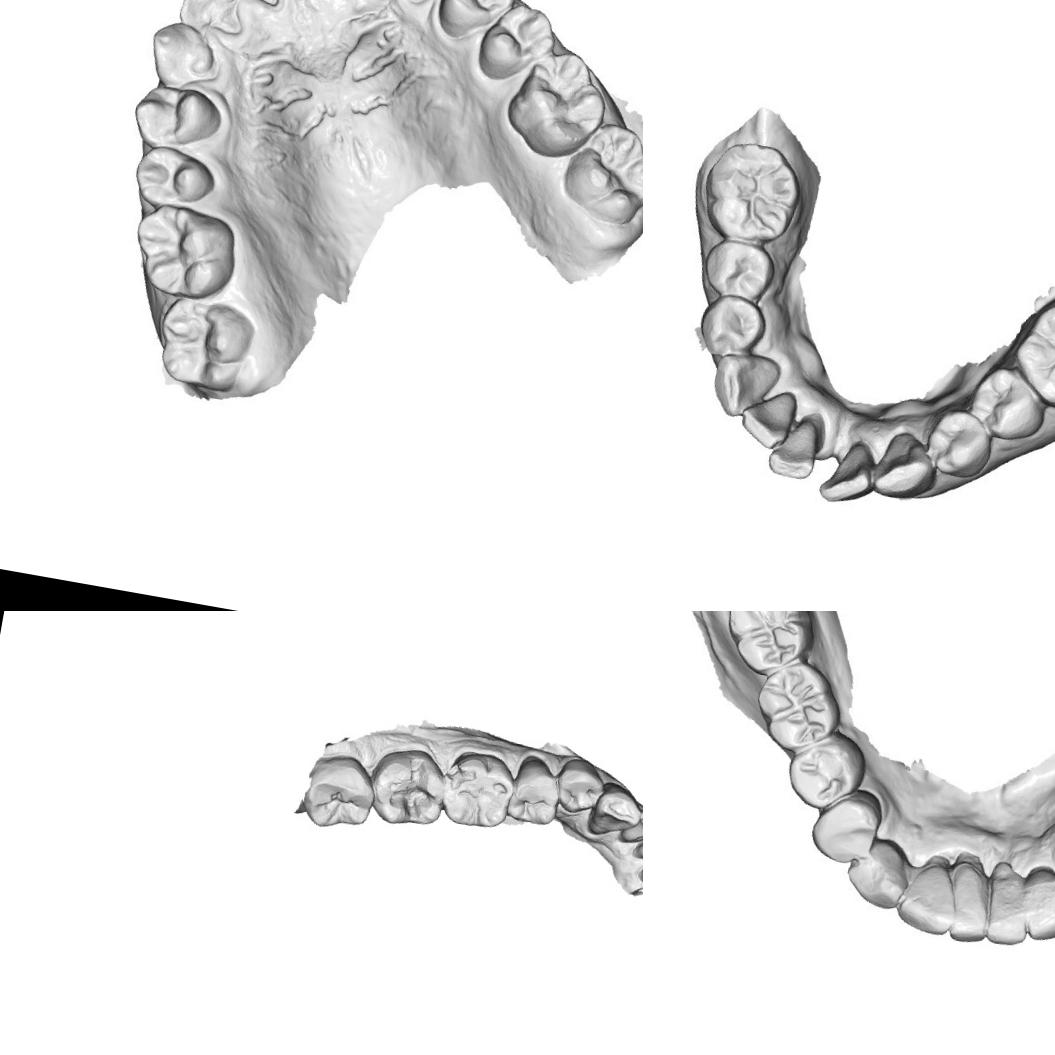canine: (705, 348, 782, 424), (144, 16, 219, 93), (844, 830, 912, 908), (875, 428, 934, 496), (585, 777, 643, 842)
incisor: (936, 849, 1004, 948), (977, 858, 1043, 948), (894, 852, 962, 937), (768, 412, 832, 490), (822, 438, 883, 508), (1016, 863, 1055, 947), (742, 386, 793, 447), (175, 0, 248, 37), (618, 799, 643, 849)
molar: (499, 42, 614, 166), (125, 198, 243, 306), (150, 291, 260, 396), (702, 137, 804, 242), (556, 115, 643, 230), (751, 659, 846, 756), (362, 740, 452, 832), (295, 746, 380, 837), (436, 746, 518, 833), (722, 611, 812, 675), (1011, 295, 1055, 412)
premolar: (961, 361, 1052, 448), (801, 779, 887, 871), (128, 78, 226, 158), (473, 0, 561, 88), (696, 232, 784, 310), (130, 140, 218, 216), (920, 404, 996, 484), (787, 730, 861, 812), (503, 752, 565, 829), (700, 291, 768, 361), (432, 0, 520, 47), (550, 753, 609, 818)
